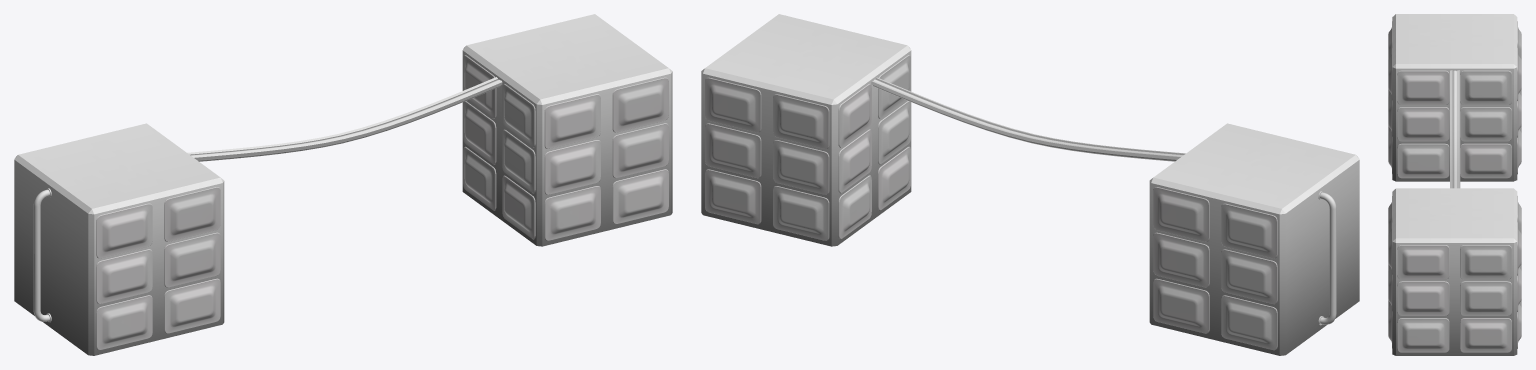
Rendered from let_6.FBX.
3 views of the same model, side by side, from view 1: azimuth 30°, elevation 25°; view 2: azimuth 150°, elevation 25°; view 3: azimuth 270°, elevation 25° (orthographic). The views are drawn at different scales.
Visible parts, largest first — view 1: Box013, Box012, Line003, Rectangle003; view 2: Box013, Box012, Line003, Rectangle003; view 3: Box013, Box012, Line003.
Boxes of the visible parts, left/top/right/bottom form: Box013: left=462, top=14, right=672, bottom=246; Box012: left=14, top=123, right=224, bottom=355; Line003: left=187, top=77, right=502, bottom=161; Rectangle003: left=33, top=188, right=51, bottom=322; Box013: left=701, top=14, right=911, bottom=246; Box012: left=1149, top=123, right=1359, bottom=355; Line003: left=871, top=77, right=1185, bottom=161; Rectangle003: left=1318, top=191, right=1336, bottom=325; Box013: left=1388, top=188, right=1521, bottom=355; Box012: left=1388, top=14, right=1521, bottom=181; Line003: left=1450, top=70, right=1460, bottom=188.
Bounding box in the file's own units: 21.6 × 4.97 × 5.17.
